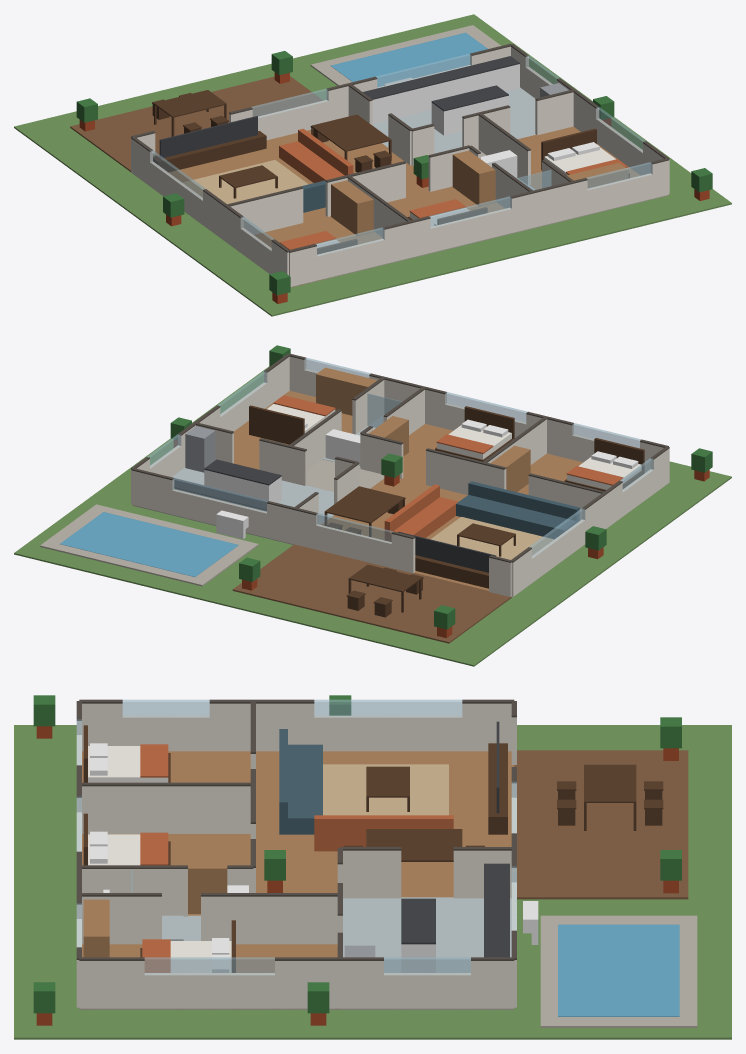
File: villa-3bhk.glb
3 renders of one model, top to bottom at view 1: azimuth 30°, elevation 25°; view 2: azimuth 150°, elevation 25°; view 3: azimuth 270°, elevation 25°, orthographic. The views are drawn at different scales.
Visible parts, largest first — view 1: wall, grass, wood, darkWood, glass, deck, white, counter, wallCut, water, fabricWarm, plant (+6 smaller); view 2: wall, grass, deck, darkWood, wood, glass, water, stone, fabric, white, wallCut, fabricWarm (+7 smaller); view 3: wall, grass, wood, deck, water, darkWood, glass, stone, tile, wallCut, fabricWarm, rug (+6 smaller).
Boxes of the visible parts, x1,y1,x2,y2 form: wall: [131, 46, 669, 286]; grass: [14, 14, 731, 316]; wood: [169, 126, 667, 287]; darkWood: [152, 90, 629, 254]; glass: [150, 53, 652, 256]; deck: [70, 76, 322, 171]; white: [372, 64, 599, 225]; counter: [159, 56, 519, 158]; wallCut: [131, 43, 669, 252]; water: [330, 32, 487, 86]; fabricWarm: [279, 128, 627, 249]; plant: [76, 51, 712, 295]; wall: [131, 356, 669, 596]; grass: [14, 366, 731, 666]; deck: [232, 544, 511, 643]; darkWood: [249, 405, 644, 617]; wood: [234, 367, 582, 597]; glass: [147, 357, 653, 558]; water: [60, 512, 238, 576]; stone: [40, 459, 662, 597]; fabric: [456, 481, 579, 538]; white: [174, 419, 638, 539]; wallCut: [131, 353, 669, 562]; fabricWarm: [273, 395, 623, 541]; wall: [76, 703, 516, 1008]; grass: [14, 725, 731, 1039]; wood: [82, 751, 514, 1009]; deck: [514, 750, 688, 899]; water: [558, 924, 679, 1016]; darkWood: [83, 725, 663, 972]; glass: [76, 699, 516, 975]; stone: [79, 915, 697, 1027]; tile: [162, 897, 511, 1009]; wallCut: [76, 699, 516, 960]; fabricWarm: [140, 744, 453, 972]; rug: [323, 764, 448, 815].
Size of the model in its own units: 17 by 1.36 by 16.5.
